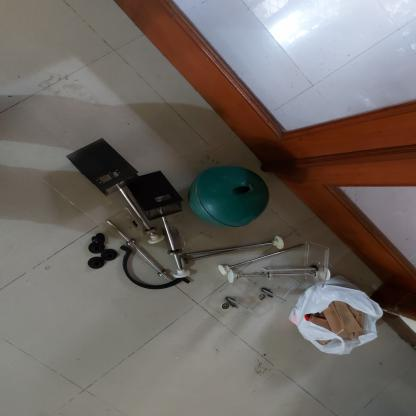green_buoy: (184, 163, 274, 231)
